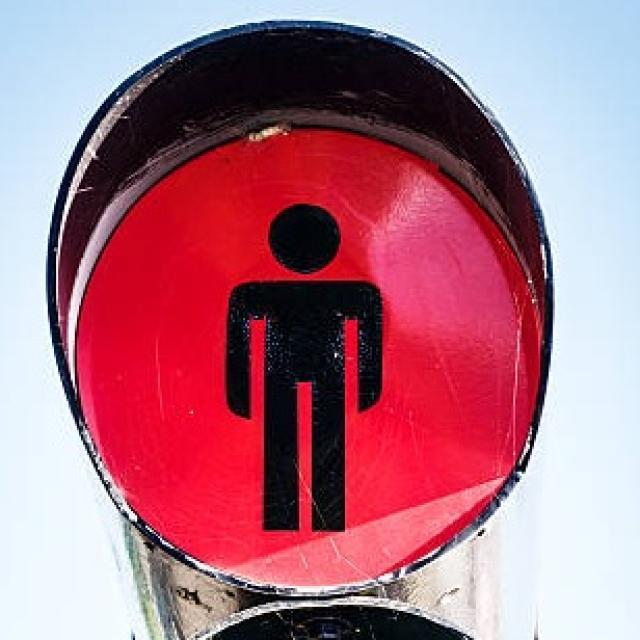red-crossing: (198, 154, 404, 566)
